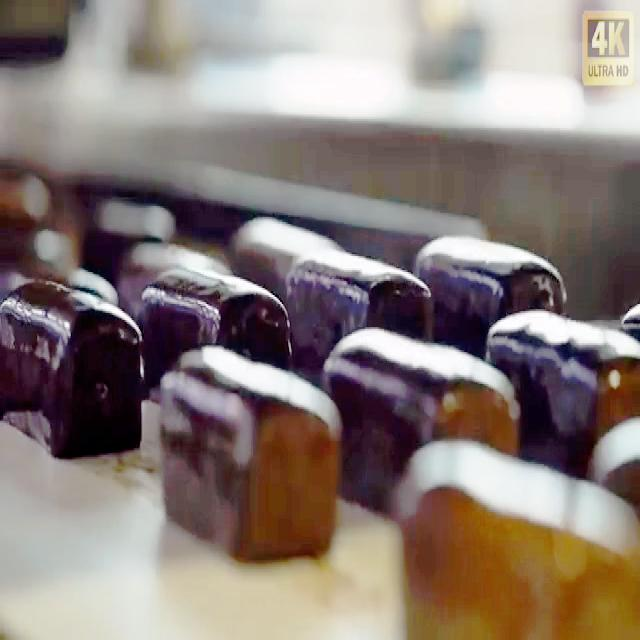Choco: (393, 436, 637, 634), (157, 342, 344, 564), (321, 322, 521, 516), (229, 210, 433, 359), (1, 272, 144, 459), (485, 288, 633, 458), (145, 254, 293, 392), (414, 228, 567, 346)
